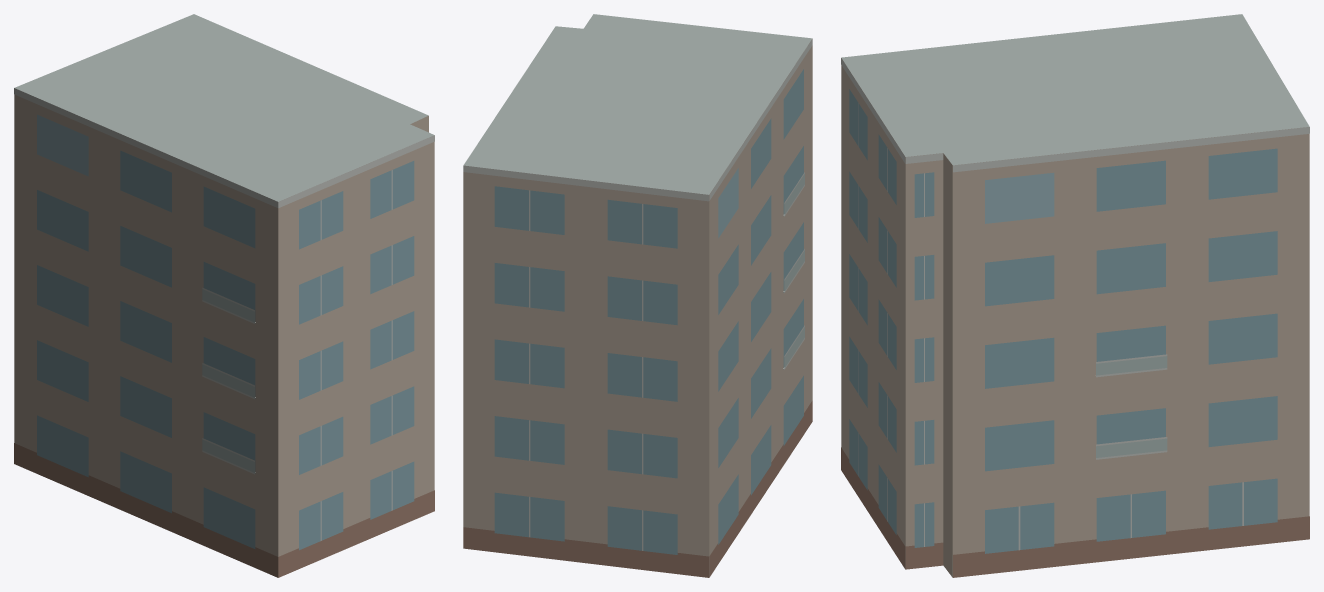
File: survey-upis-32715187.glb
3 views of the same model, side by side, from view 1: azimuth 30°, elevation 25°; view 2: azimuth 150°, elevation 25°; view 3: azimuth 270°, elevation 25° (orthographic). The views are drawn at different scales.
Parts seen in each view (by area): view 1: survey-upis-32715187.tmp; view 2: survey-upis-32715187.tmp; view 3: survey-upis-32715187.tmp.
Boxes of the visible parts, x1,y1,x2,y2 form: survey-upis-32715187.tmp: (14,14,434,577); survey-upis-32715187.tmp: (463,14,812,577); survey-upis-32715187.tmp: (841,14,1309,577).
Size of the model in its own units: 11.26 by 14.3 by 14.73.
